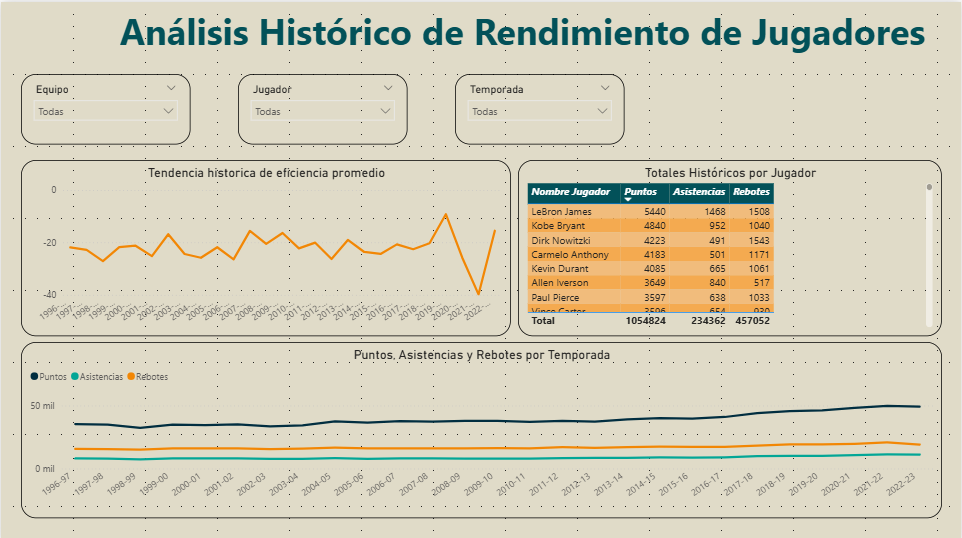

What the dashboard file says about the page in this screenshot:
{"tool":"powerbi","page":{"name":"Temporal","canvas":[1280,720],"ordinal":3},"visuals":[{"type":"slicer","fields":{"Values":["all_seasons_filtrado.team_abbreviation"]},"box":[26.2,96.2,226.2,93.8],"z":0},{"type":"tableEx","title":"Totales Históricos por Jugador","fields":{"Values":["all_seasons_filtrado.player_name","Sum(all_seasons_filtrado.pts)","Sum(all_seasons_filtrado.ast)","Sum(all_seasons_filtrado.reb)"]},"box":[688.8,210,565,235],"z":1000},{"type":"slicer","fields":{"Values":["all_seasons_filtrado.player_name"]},"box":[316.2,96.2,226.2,93.8],"z":2000},{"type":"lineChart","fields":{"Y":["Sum(all_seasons_filtrado.pts)","Sum(all_seasons_filtrado.ast)","Sum(all_seasons_filtrado.reb)"],"Category":["DimSeason.season"]},"box":[26.2,453.8,1227.5,235],"z":3000},{"type":"slicer","fields":{"Values":["DimSeason.season"]},"box":[605,96.2,226.2,93.8],"z":4000},{"type":"lineChart","title":"Tendencia historica de eficiencia promedio","fields":{"Category":["DimSeason.season"],"Y":["Medidas.Avg Net Rating"]},"box":[26.2,210,652.5,235],"z":5000},{"type":"textbox","box":[153.2,0,1100.3,78.4],"z":6000}]}

Visuals, with their boxes in screenshot pixels (x1, y1, x2, y2), scaled from the page's 1280x720 canvas onto the 962x538 screenshot:
slicer - all_seasons_filtrado.team_abbreviation: l=20, t=72, r=190, b=142
"Totales Históricos por Jugador" tableEx: l=518, t=157, r=942, b=333
slicer - all_seasons_filtrado.player_name: l=238, t=72, r=408, b=142
lineChart - Sum(all_seasons_filtrado.pts) x Sum(all_seasons_filtrado.ast): l=20, t=339, r=942, b=515
slicer - DimSeason.season: l=455, t=72, r=625, b=142
"Tendencia historica de eficiencia promedio" lineChart: l=20, t=157, r=510, b=333
textbox: l=115, t=0, r=942, b=59
